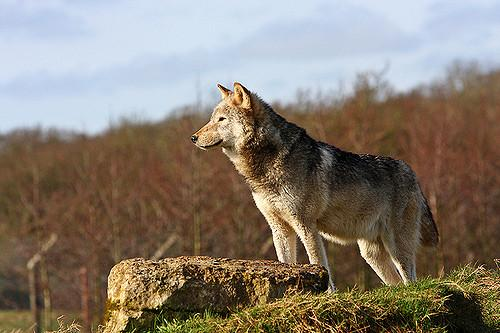Wolf: (188, 83, 442, 298)
